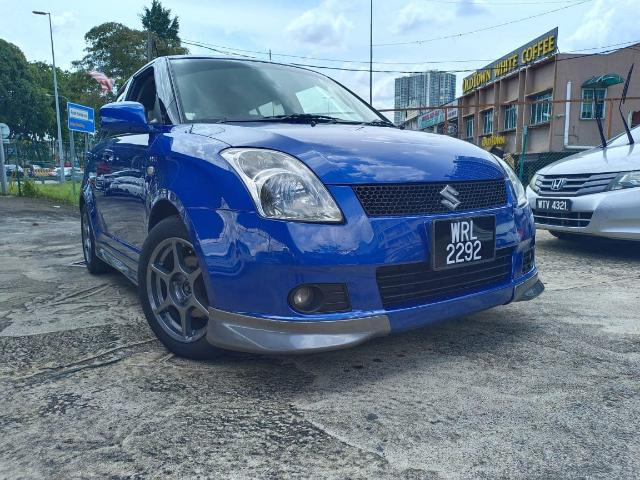License_Plate: (435, 216, 492, 272), (535, 196, 577, 218)
car: (75, 36, 550, 358)
